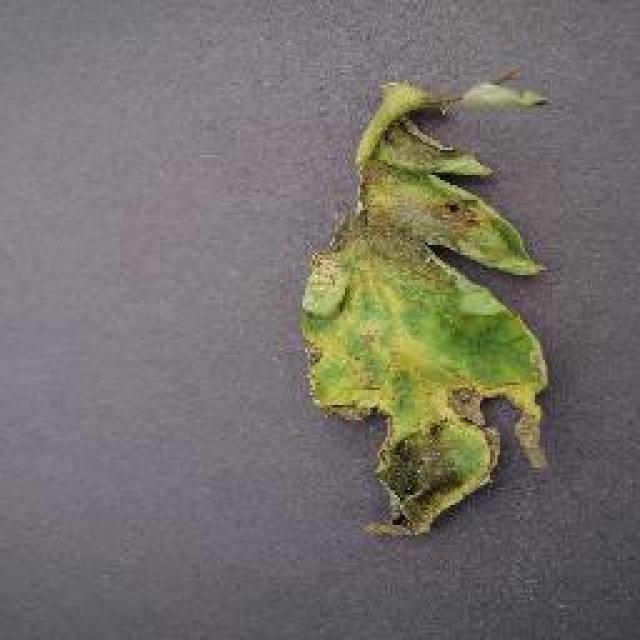Tomato___Late_blight: (300, 72, 545, 532)
